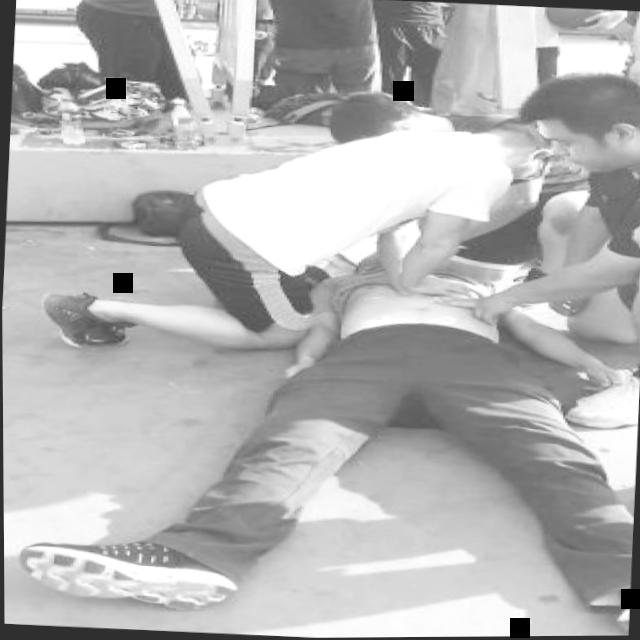Fall-Detected: (10, 215, 640, 639)
